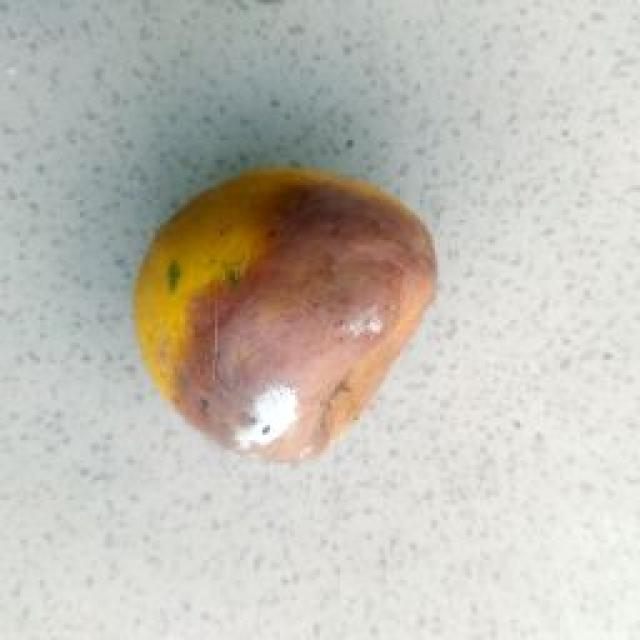Bad_Orange: (135, 168, 438, 461)
